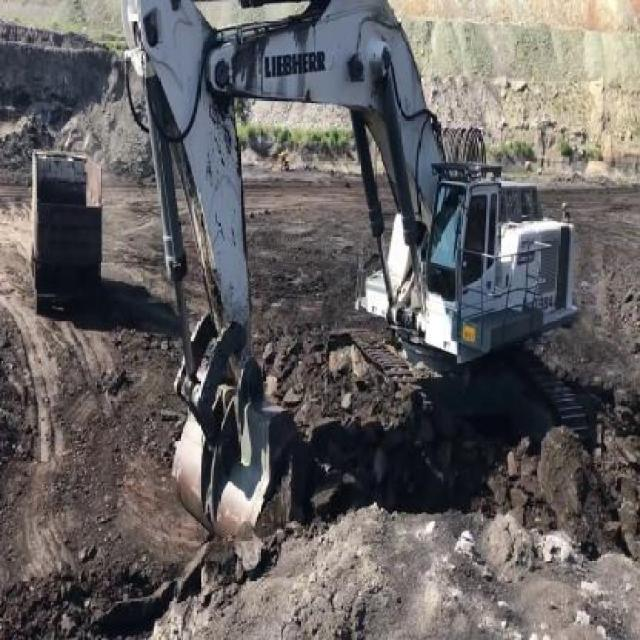Dump Truck: (28, 146, 102, 320)
Excavator: (118, 0, 591, 545)
